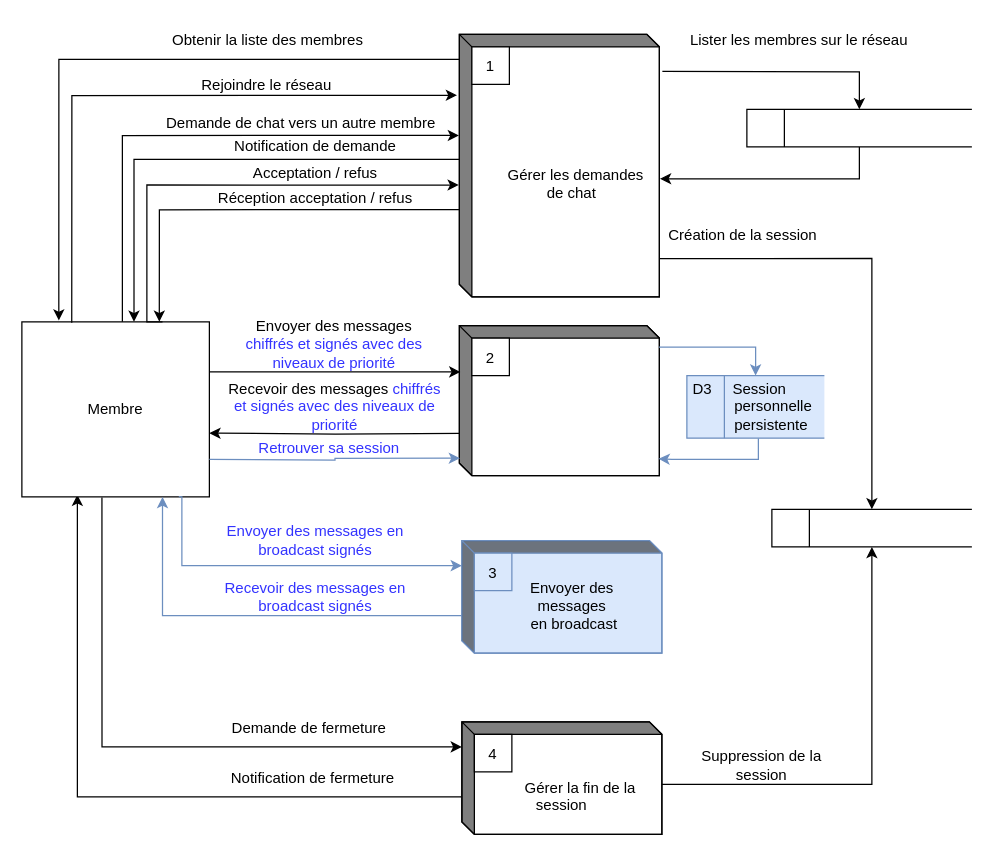
The diagram is 995 pixels wide and 856 high, and some of its shapes have lost their labels. The centre of each missing label's shape, as x and y in pixels:
D1 Membres authentifié.e.s et disponibles sur le réseau: pixel 859 127
D2 Sessions multiples: pixel 871 527
Gérer la session sécurisée de conversation: pixel 558 400
